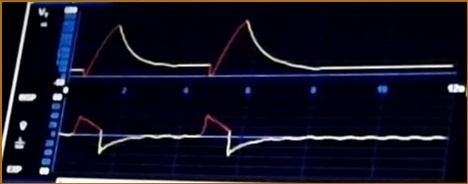Flow: (64, 105, 406, 172)
Leakage Volume: (74, 12, 426, 81)
